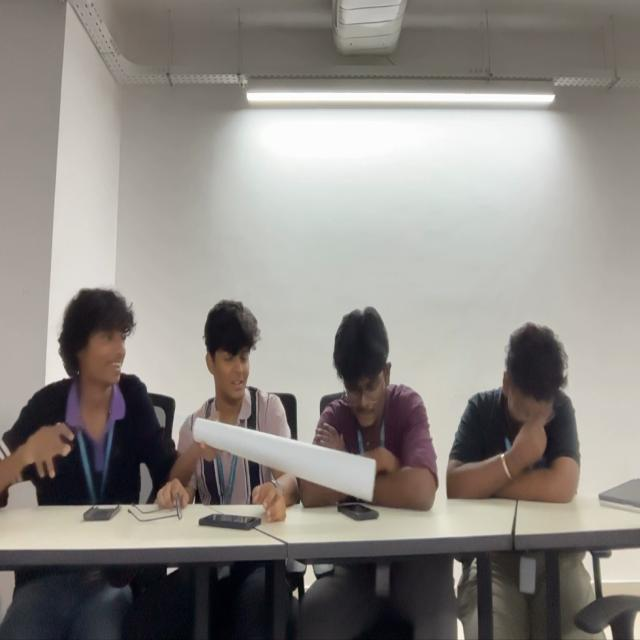Isolated: (310, 288, 434, 502), (450, 317, 579, 492)
socializing: (0, 261, 298, 514)
